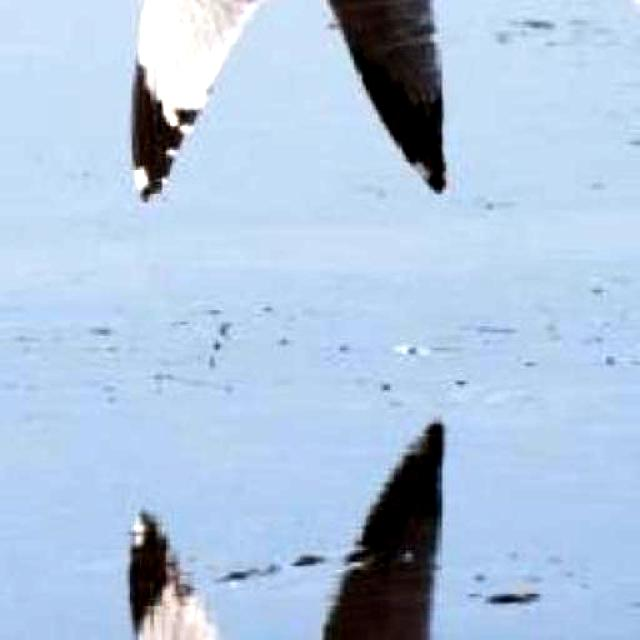airplane: (135, 0, 558, 205)
